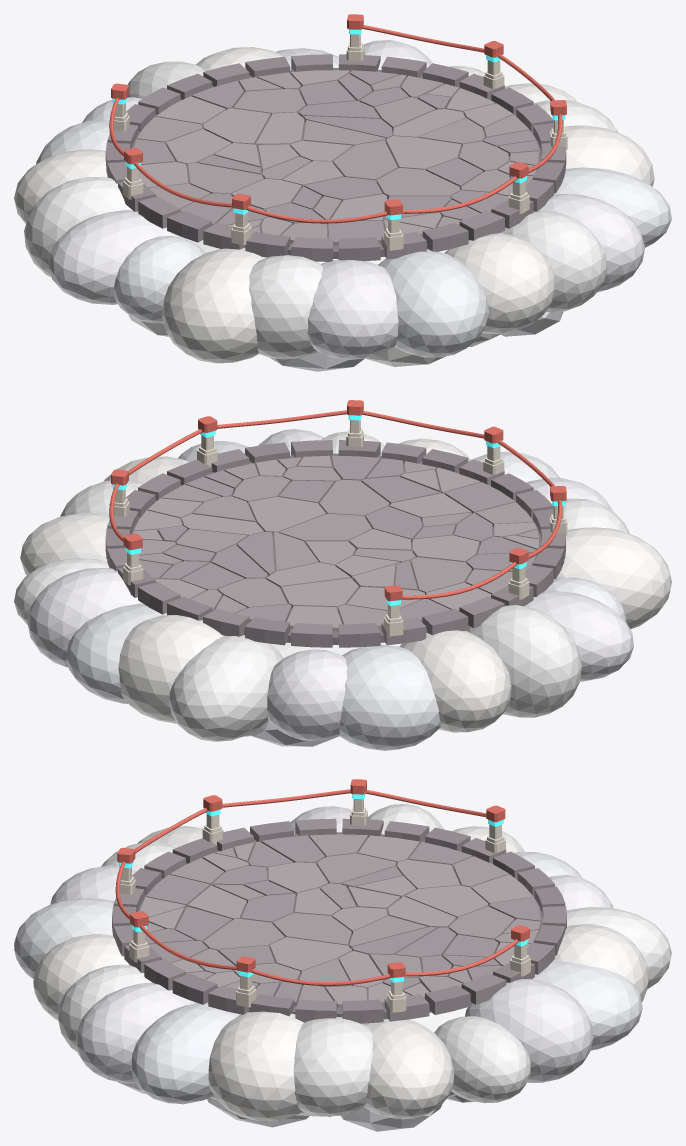
Rendered from cloud-plaza.glb.
The picture shows the model from 3 angles, top to bottom: view 1: azimuth 30°, elevation 25°; view 2: azimuth 150°, elevation 25°; view 3: azimuth 270°, elevation 25°; orthographic projection.
Parts seen in each view (by area): view 1: Combined_cloud_warm, Combined_cloud_lilac, Combined_cloud_cool, Combined_cloud_white, Combined_stone_2, Combined_stone_1, Combined_stone_3, Combined_rim_2, Combined_rim_1, Combined_red, Combined_cream, Plaza_Walkable_Base (+1 smaller); view 2: Combined_cloud_warm, Combined_cloud_white, Combined_stone_2, Combined_cloud_lilac, Combined_stone_1, Combined_stone_3, Combined_cloud_cool, Combined_rim_1, Combined_rim_2, Combined_red, Combined_cream, Plaza_Walkable_Base (+2 smaller); view 3: Combined_cloud_warm, Combined_cloud_white, Combined_stone_2, Combined_cloud_lilac, Combined_cloud_cool, Combined_stone_1, Combined_stone_3, Combined_rim_1, Combined_rim_2, Combined_red, Combined_cream, Plaza_Walkable_Base (+2 smaller).
Part boxes in pixels (bbox=[...]): Combined_cloud_warm: bbox=[14, 47, 654, 366]; Combined_cloud_lilac: bbox=[48, 40, 644, 359]; Combined_cloud_cool: bbox=[36, 48, 671, 371]; Combined_cloud_white: bbox=[24, 61, 618, 359]; Combined_stone_2: bbox=[139, 70, 537, 236]; Combined_stone_1: bbox=[137, 72, 539, 243]; Combined_stone_3: bbox=[134, 70, 538, 245]; Combined_rim_2: bbox=[105, 54, 564, 261]; Combined_rim_1: bbox=[107, 54, 566, 261]; Combined_red: bbox=[109, 14, 566, 223]; Combined_cream: bbox=[113, 34, 567, 250]; Plaza_Walkable_Base: bbox=[131, 68, 541, 259]; Combined_cloud_warm: bbox=[20, 438, 671, 732]; Combined_cloud_white: bbox=[14, 431, 629, 741]; Combined_stone_2: bbox=[133, 455, 539, 631]; Combined_cloud_lilac: bbox=[27, 429, 633, 746]; Combined_stone_1: bbox=[139, 457, 538, 629]; Combined_stone_3: bbox=[139, 455, 537, 621]; Combined_cloud_cool: bbox=[66, 441, 626, 750]; Combined_rim_1: bbox=[107, 440, 565, 647]; Combined_rim_2: bbox=[105, 440, 564, 647]; Combined_red: bbox=[109, 400, 566, 601]; Combined_cream: bbox=[113, 420, 567, 636]; Plaza_Walkable_Base: bbox=[131, 453, 541, 644]; Combined_cloud_warm: bbox=[33, 826, 648, 1120]; Combined_cloud_white: bbox=[58, 803, 671, 1116]; Combined_stone_2: bbox=[140, 835, 533, 1007]; Combined_cloud_lilac: bbox=[50, 806, 613, 1131]; Combined_cloud_cool: bbox=[14, 833, 642, 1127]; Combined_stone_1: bbox=[147, 834, 540, 1002]; Combined_stone_3: bbox=[145, 835, 540, 1005]; Combined_rim_1: bbox=[113, 818, 566, 1022]; Combined_rim_2: bbox=[112, 818, 565, 1023]; Combined_red: bbox=[115, 779, 529, 985]; Combined_cream: bbox=[120, 799, 530, 1012]; Plaza_Walkable_Base: bbox=[137, 832, 542, 1019].
Size of the model in its own units: 13.7 by 4.47 by 14.
